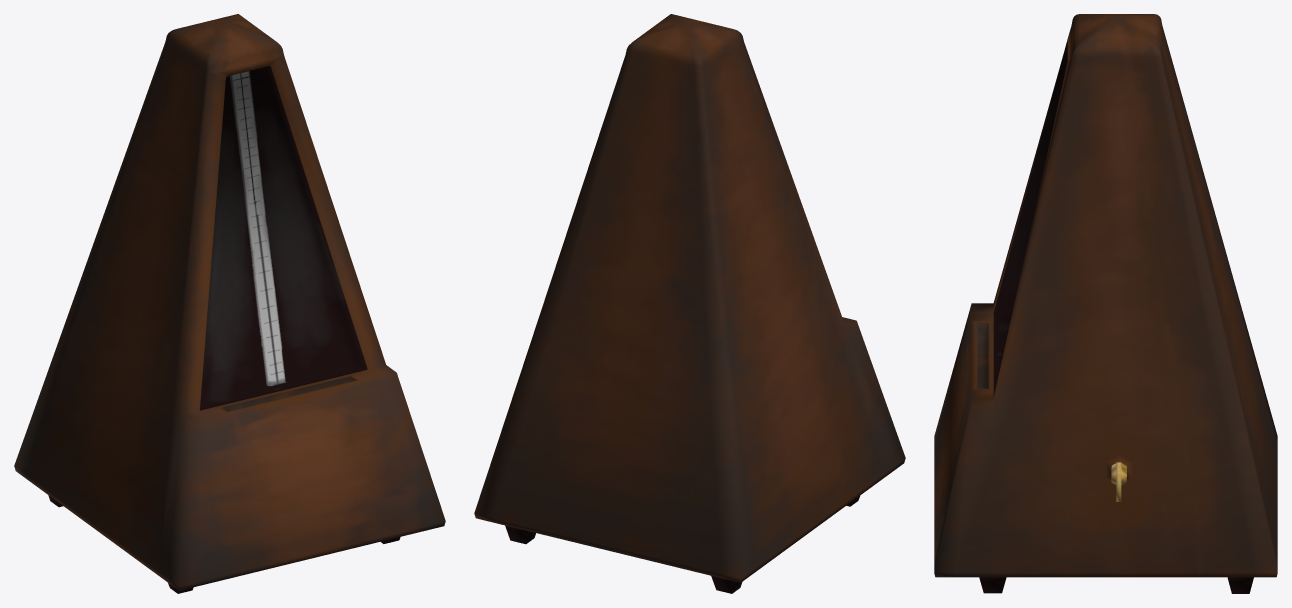
Rendered from Metronomo.fbx.
The picture shows the model from 3 angles, left to right: view 1: azimuth 30°, elevation 25°; view 2: azimuth 150°, elevation 25°; view 3: azimuth 270°, elevation 25°; orthographic projection. The views are drawn at different scales.
Visible parts, largest first — view 1: Metronomo; view 2: Metronomo; view 3: Metronomo.
Boxes of the visible parts, x1,y1,x2,y2 form: Metronomo: [14, 14, 445, 593]; Metronomo: [474, 14, 905, 593]; Metronomo: [934, 14, 1277, 593].
Bounding box in the file's own units: 6.95 × 11.6 × 6.93.
